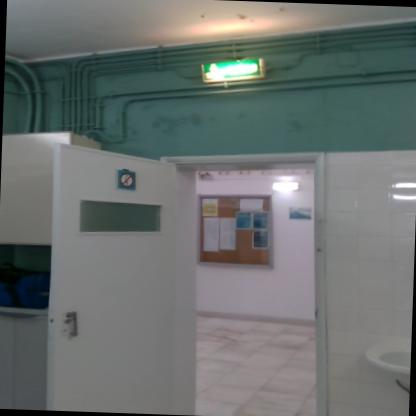open: (44, 134, 344, 416)
